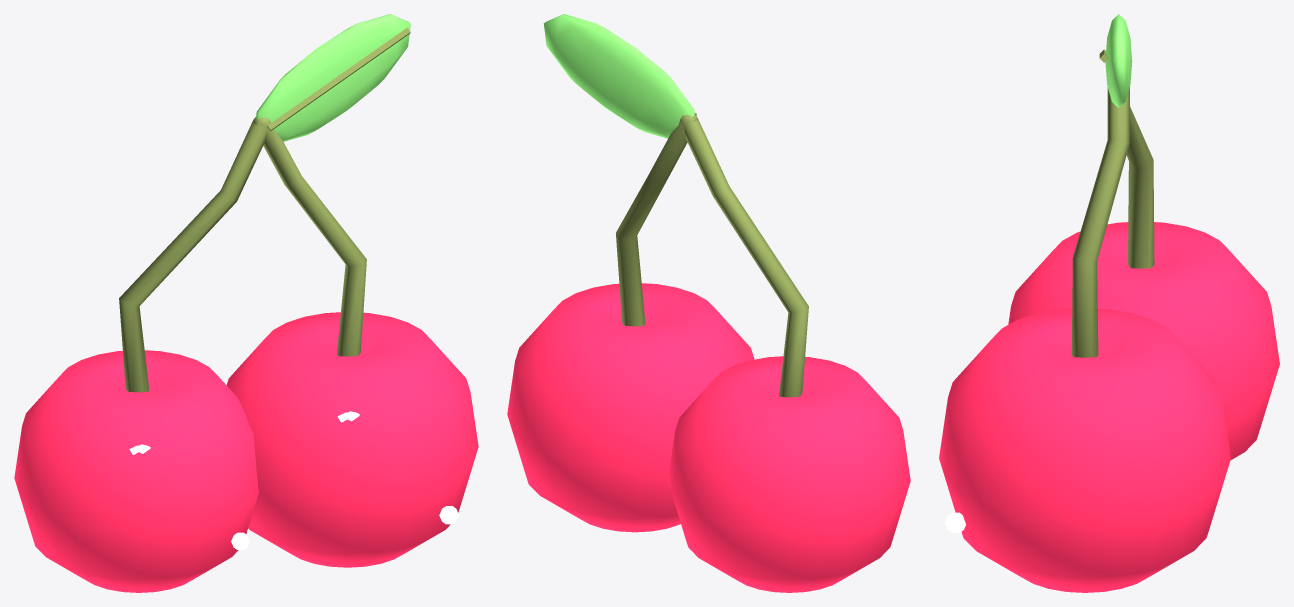
The model's file is treat_cherry.glb.
3 views of the same model, side by side, from view 1: azimuth 30°, elevation 25°; view 2: azimuth 150°, elevation 25°; view 3: azimuth 270°, elevation 25° (orthographic). The views are drawn at different scales.
Visible parts, largest first — view 1: treat_cherry; view 2: treat_cherry; view 3: treat_cherry.
Boxes of the visible parts, box(x1,y1,x2,y2) form: treat_cherry: box(14, 14, 478, 592); treat_cherry: box(507, 14, 910, 592); treat_cherry: box(939, 14, 1279, 592).
Bounding box in the file's own units: 0.4635 × 0.5547 × 0.3035.
